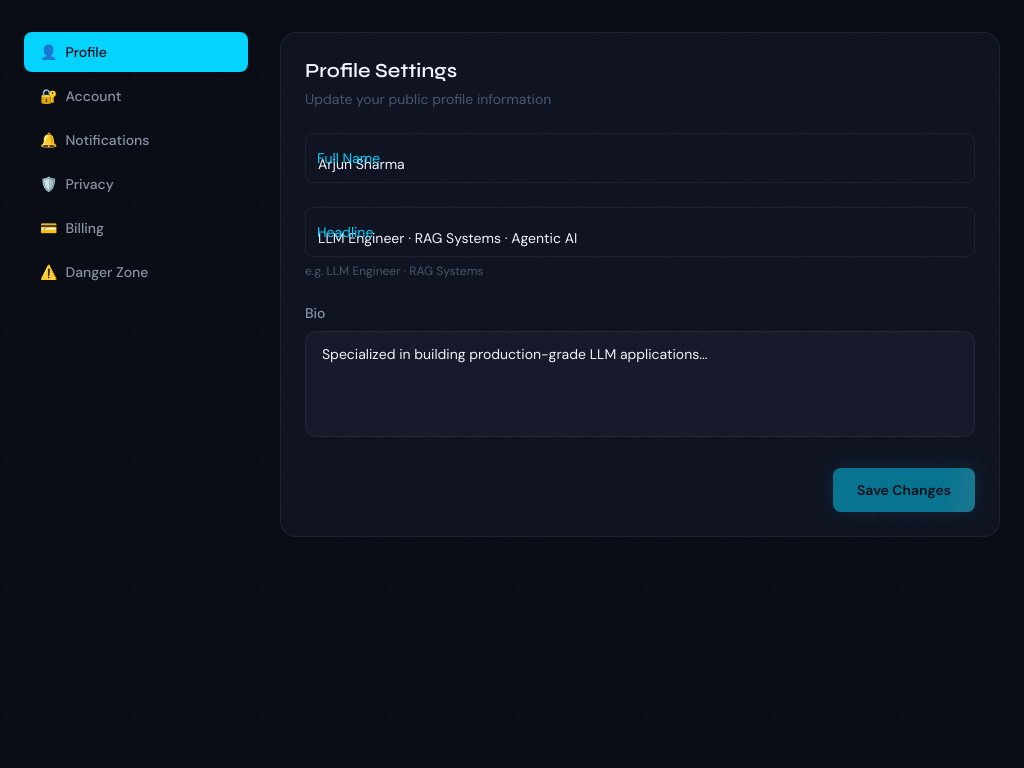
Test: Module 7: Payments, Analytics & Settings › Settings › revokes session correctly
The width and height of the screenshot is (1024, 768).
Click the button "🔐 Account" at (136, 96), box [24,76,248,116]
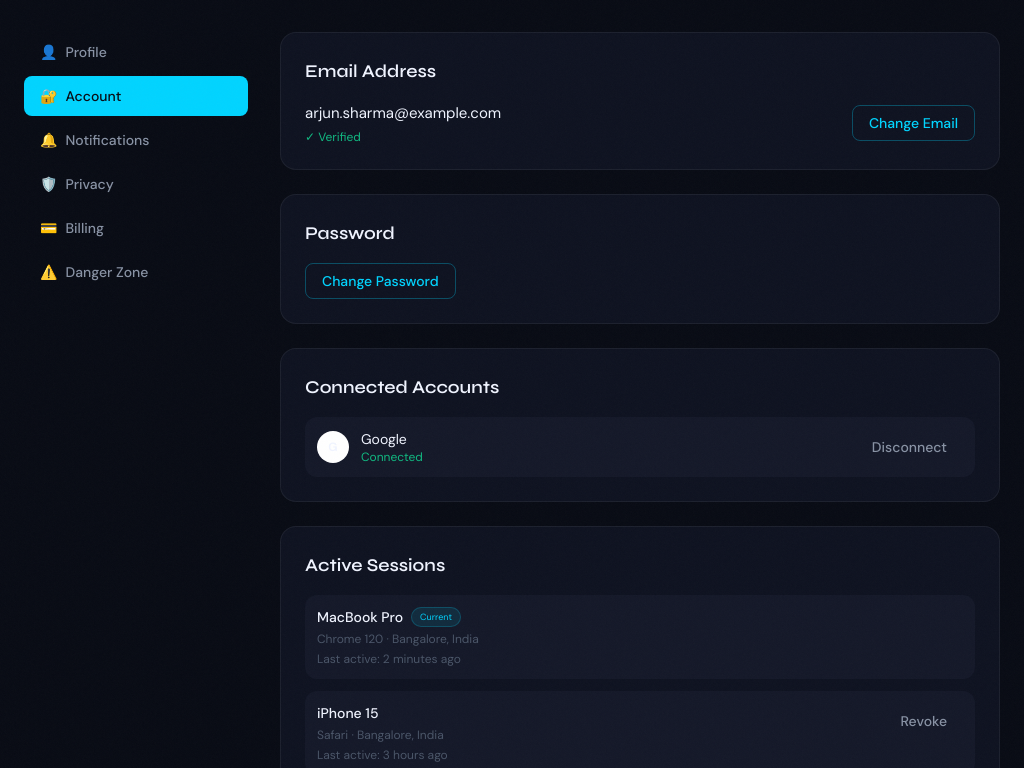
Click the button with test id "revoke-session-session-2" at (924, 721), box [884,703,963,739]
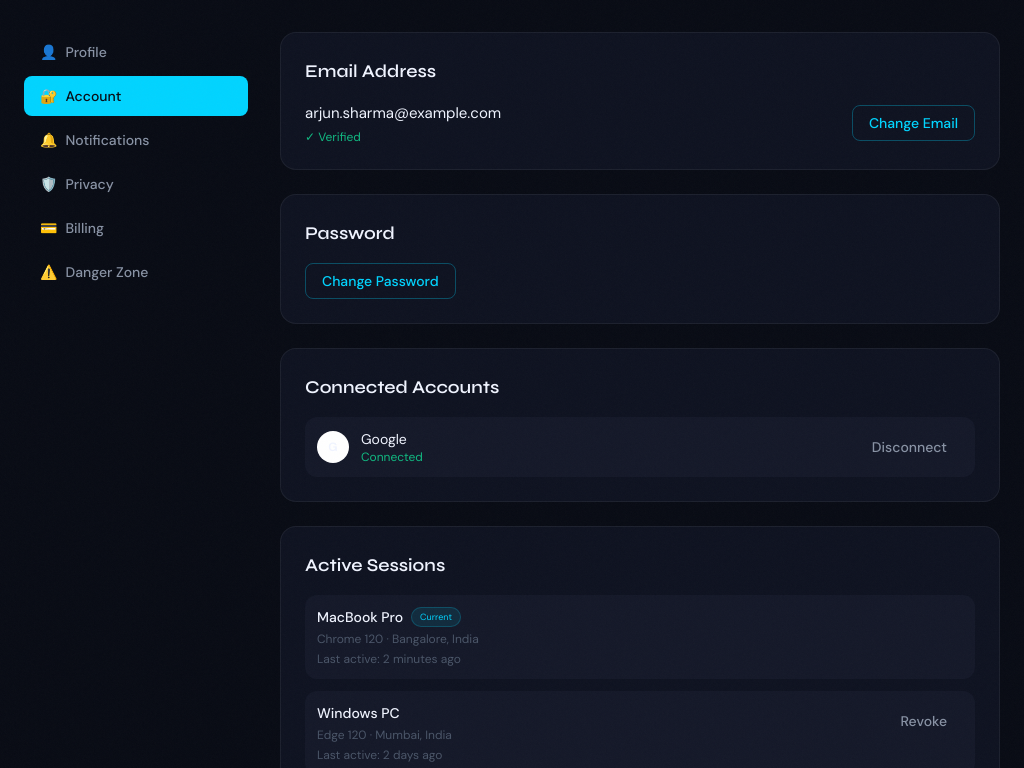
Now the text "iPhone 15" is gone
